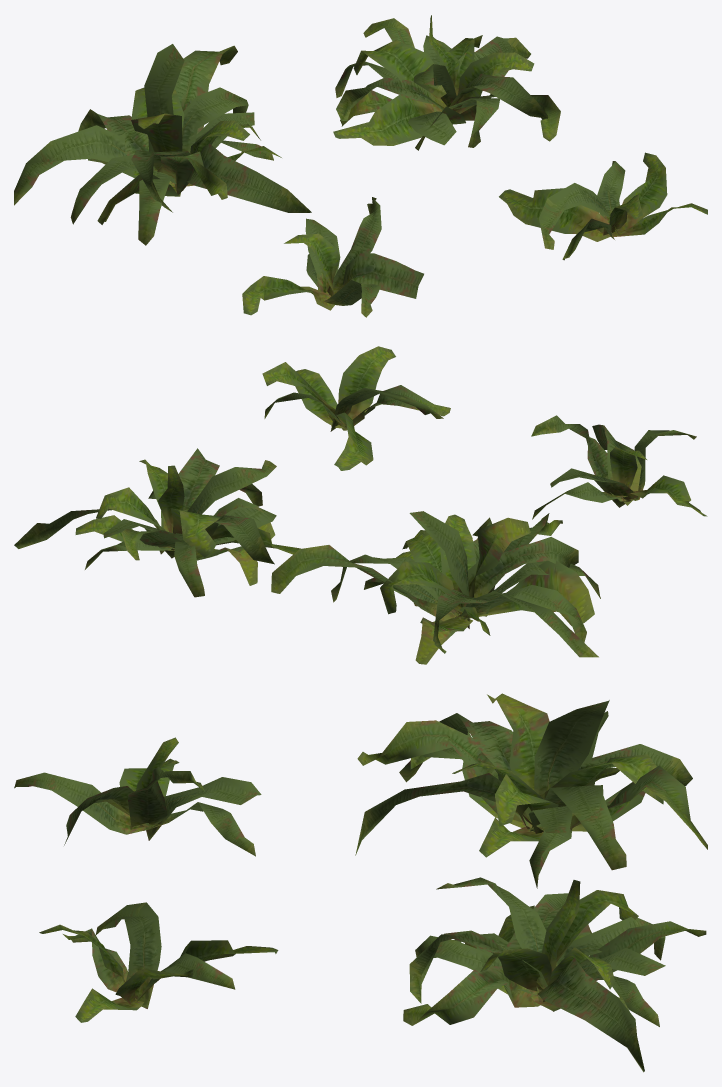
File: fern.glb
3 views of the same model, one above another, from view 1: azimuth 30°, elevation 25°; view 2: azimuth 150°, elevation 25°; view 3: azimuth 270°, elevation 25° (orthographic). The views are drawn at different scales.
Parts seen in each view (by area): view 1: fern_02_b, fern_02_c, fern_02_d, fern_02_a; view 2: fern_02_b, fern_02_c, fern_02_d, fern_02_a; view 3: fern_02_b, fern_02_c, fern_02_a, fern_02_d.
Boxes of the visible parts, x1=… form: fern_02_b: x1=14, y1=44, x2=311, y2=245; fern_02_c: x1=333, y1=15, x2=560, y2=150; fern_02_d: x1=499, y1=152, x2=707, y2=260; fern_02_a: x1=242, y1=197, x2=423, y2=317; fern_02_b: x1=271, y1=511, x2=600, y2=664; fern_02_c: x1=14, y1=448, x2=300, y2=597; fern_02_d: x1=262, y1=346, x2=450, y2=470; fern_02_a: x1=531, y1=415, x2=707, y2=519; fern_02_b: x1=355, y1=693, x2=707, y2=888; fern_02_c: x1=403, y1=877, x2=706, y2=1072; fern_02_a: x1=14, y1=737, x2=261, y2=856; fern_02_d: x1=39, y1=902, x2=278, y2=1022.
Bounding box in the file's own units: 1.96 × 0.4246 × 1.72.
Materials: 1 (1 with a texture image).
